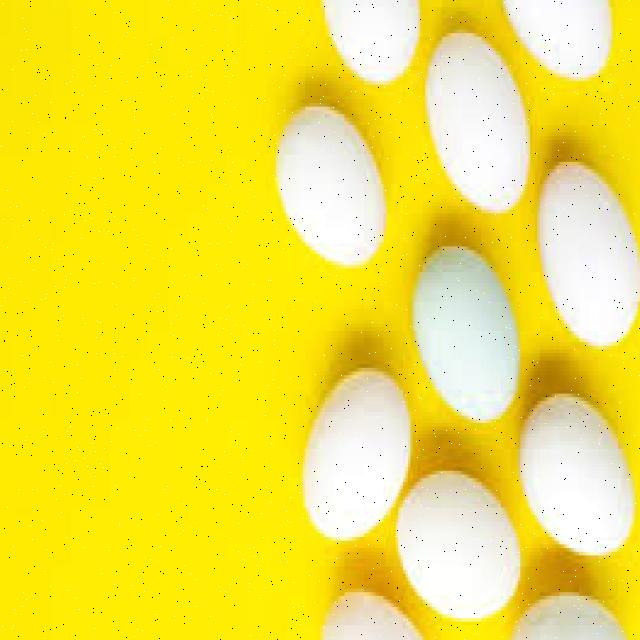White Egg: (270, 102, 399, 292), (518, 385, 638, 565), (414, 234, 524, 430), (392, 467, 521, 631), (420, 30, 532, 218), (527, 169, 640, 353), (295, 372, 413, 546), (488, 0, 620, 85), (315, 0, 418, 85)
